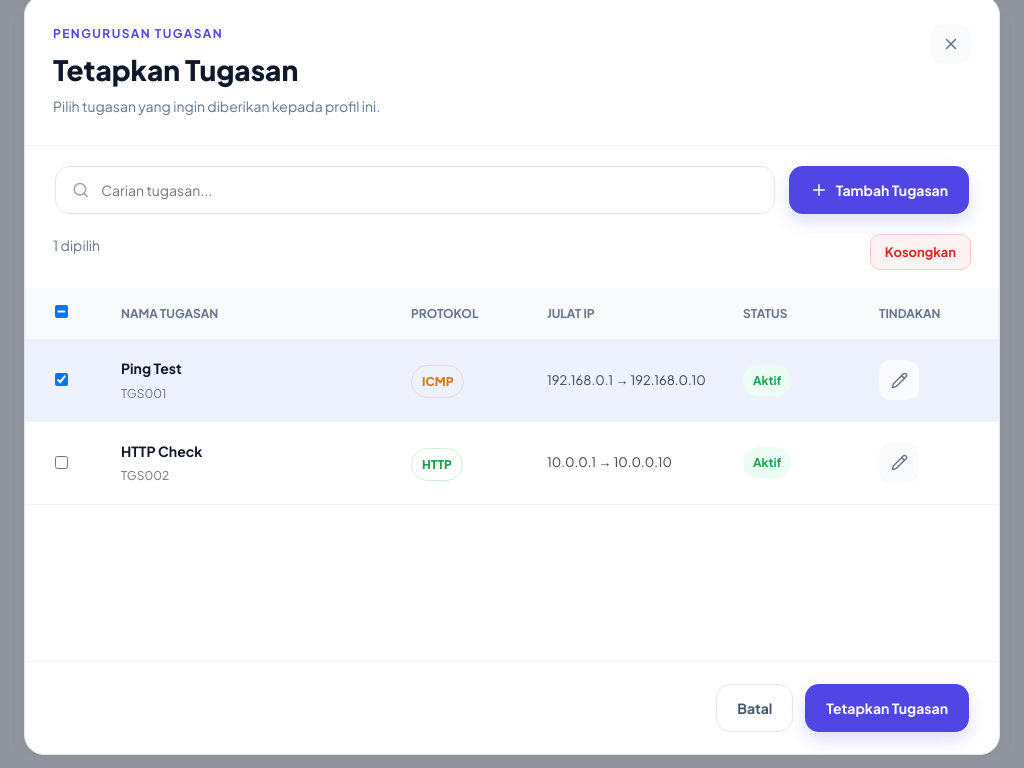
it: AssignTugasanModal.vue › mengosongkan pilihan tugasan
Click the 1st checkbox at (62, 312), box [55, 305, 68, 318]
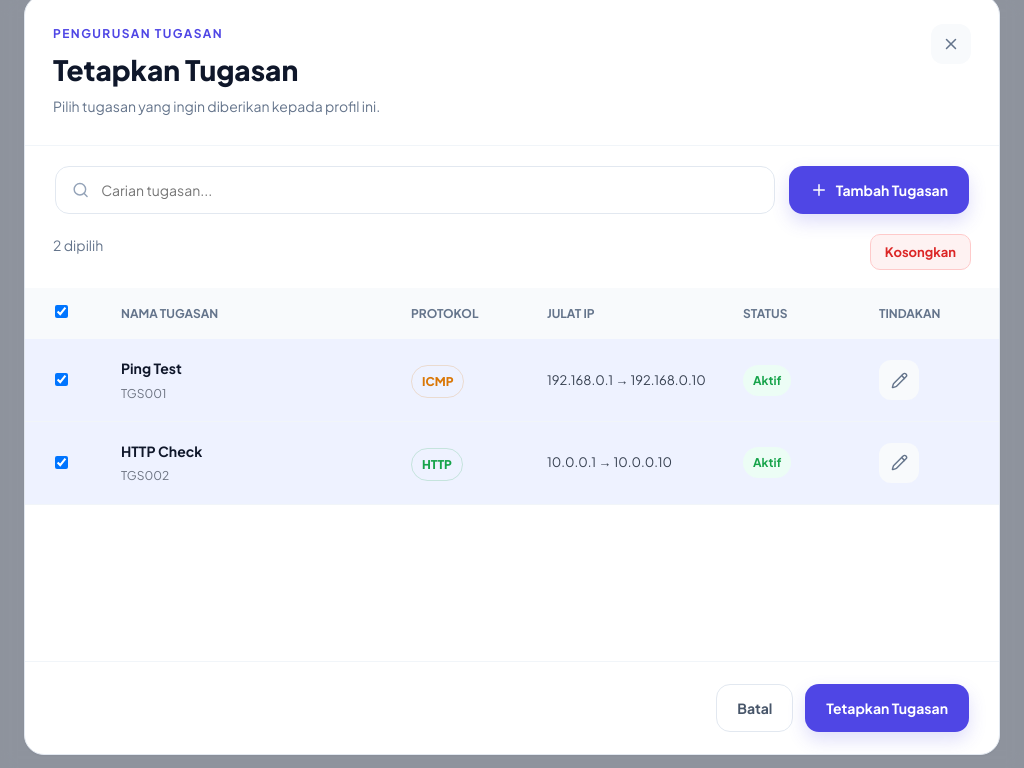
Click the button with class "clear-btn" at (920, 252), box [870, 234, 971, 270]
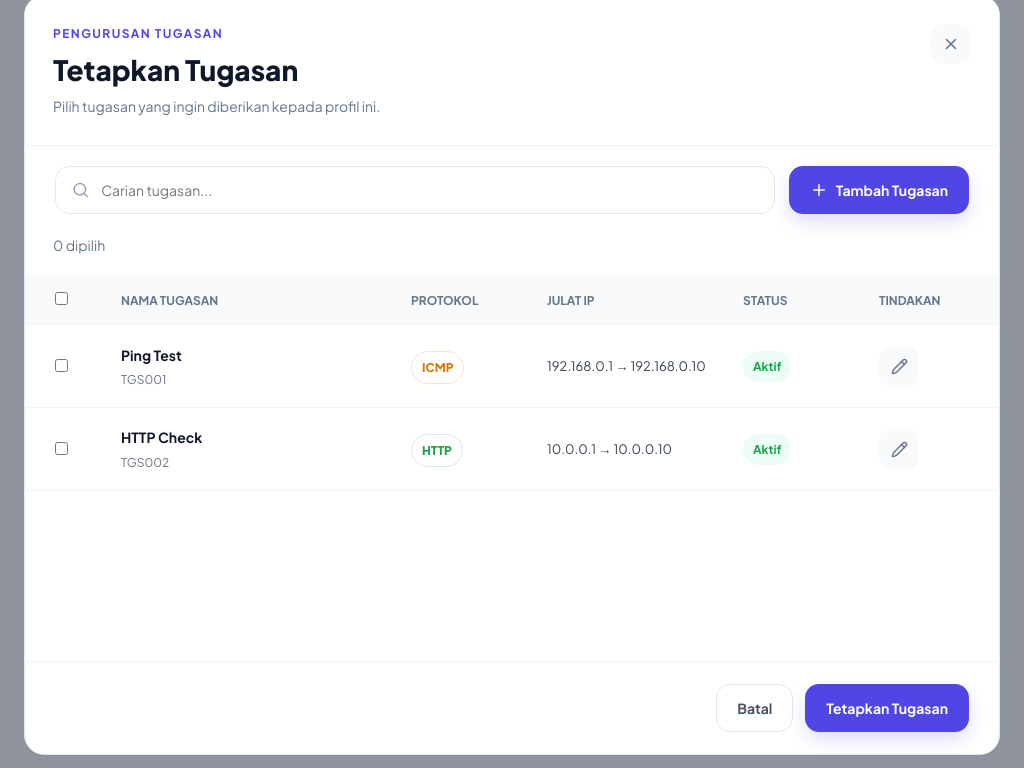
Expected: the text "0 dipilih" is shown, [53, 234, 105, 257]
